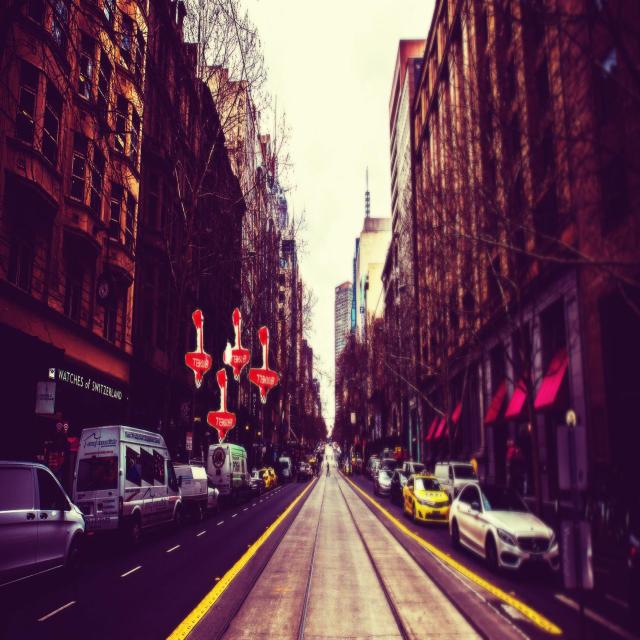airplane: (248, 318, 279, 405), (207, 367, 237, 445), (185, 309, 212, 393), (224, 306, 249, 384)
